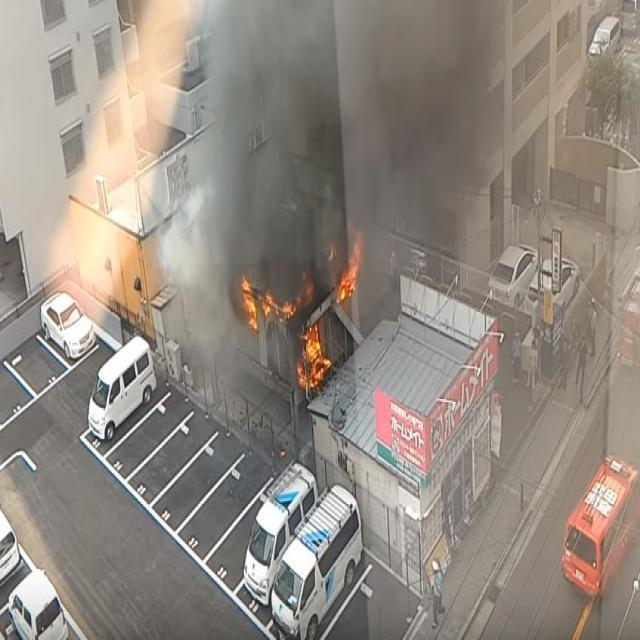Fire: (336, 256, 368, 306), (242, 276, 274, 322), (302, 327, 323, 381)
Smoke: (229, 7, 479, 148)
